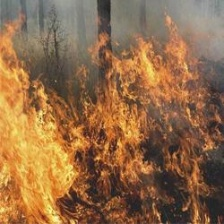fire: (2, 29, 84, 224), (109, 43, 199, 162)
